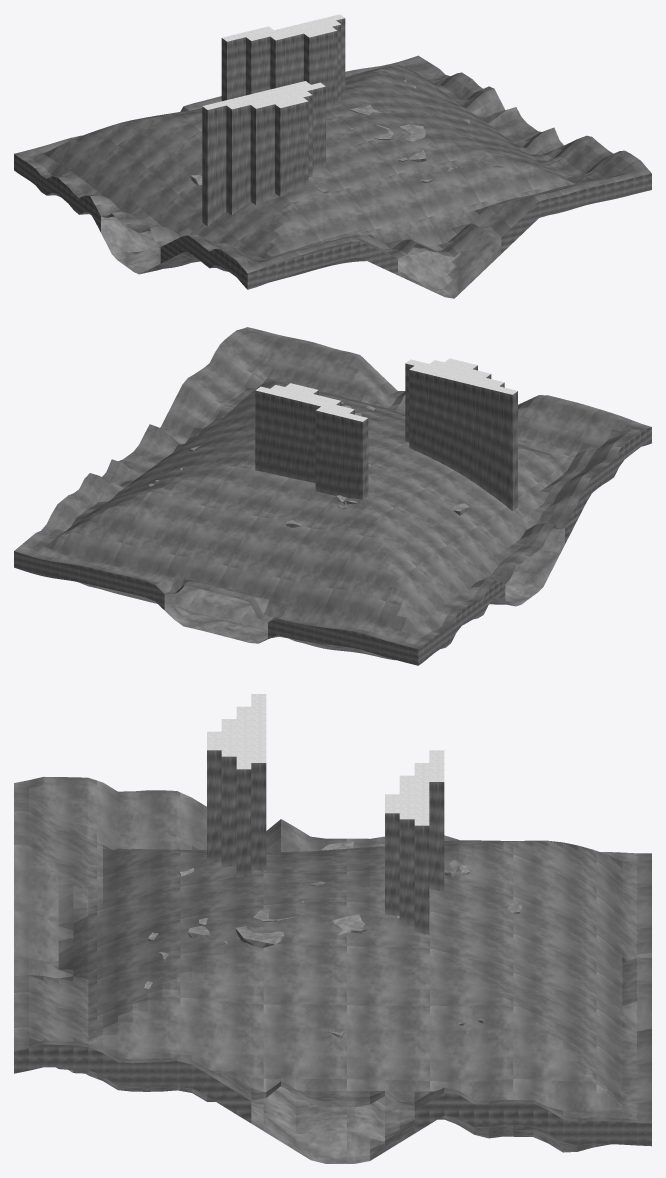
The picture shows the model from 3 angles, top to bottom: view 1: azimuth 30°, elevation 25°; view 2: azimuth 150°, elevation 25°; view 3: azimuth 270°, elevation 25°; orthographic projection. The views are drawn at different scales.
Parts seen in each view (by area): view 1: CavernVault, CavernShaft, CavernWalls, CavernFloor, CavernSkyCap, CavernStalactites, CavernColumns; view 2: CavernVault, CavernShaft, CavernWalls, CavernFloor, CavernSkyCap; view 3: CavernVault, CavernShaft, CavernWalls, CavernFloor, CavernSkyCap, CavernStalactites, CavernColumns.
Part boxes in pixels (box(x1,y1,x2,y2)): CavernVault: box(14, 55, 651, 273); CavernShaft: box(202, 18, 345, 226); CavernWalls: box(14, 154, 651, 289); CavernFloor: box(47, 193, 501, 298); CavernSkyCap: box(202, 14, 344, 109); CavernStalactites: box(317, 79, 503, 193); CavernColumns: box(190, 105, 426, 187); CavernVault: box(14, 327, 651, 649); CavernShaft: box(255, 363, 517, 511); CavernWalls: box(14, 427, 651, 665); CavernFloor: box(78, 528, 564, 660); CavernSkyCap: box(255, 358, 517, 421); CavernVault: box(14, 776, 651, 1123); CavernShaft: box(207, 750, 444, 934); CavernWalls: box(14, 1044, 651, 1146); CavernFloor: box(56, 1067, 611, 1163); CavernSkyCap: box(207, 694, 444, 825); CavernStalactites: box(144, 865, 485, 1038); CavernColumns: box(188, 841, 522, 937).
Size of the model in its own units: 92 by 41.62 by 92.
Materials: 6 (6 with a texture image).
